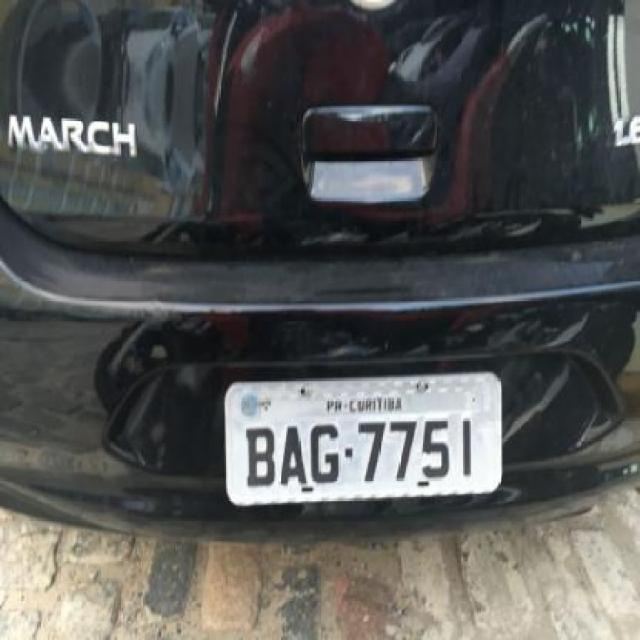old_plate: (220, 367, 506, 512)
